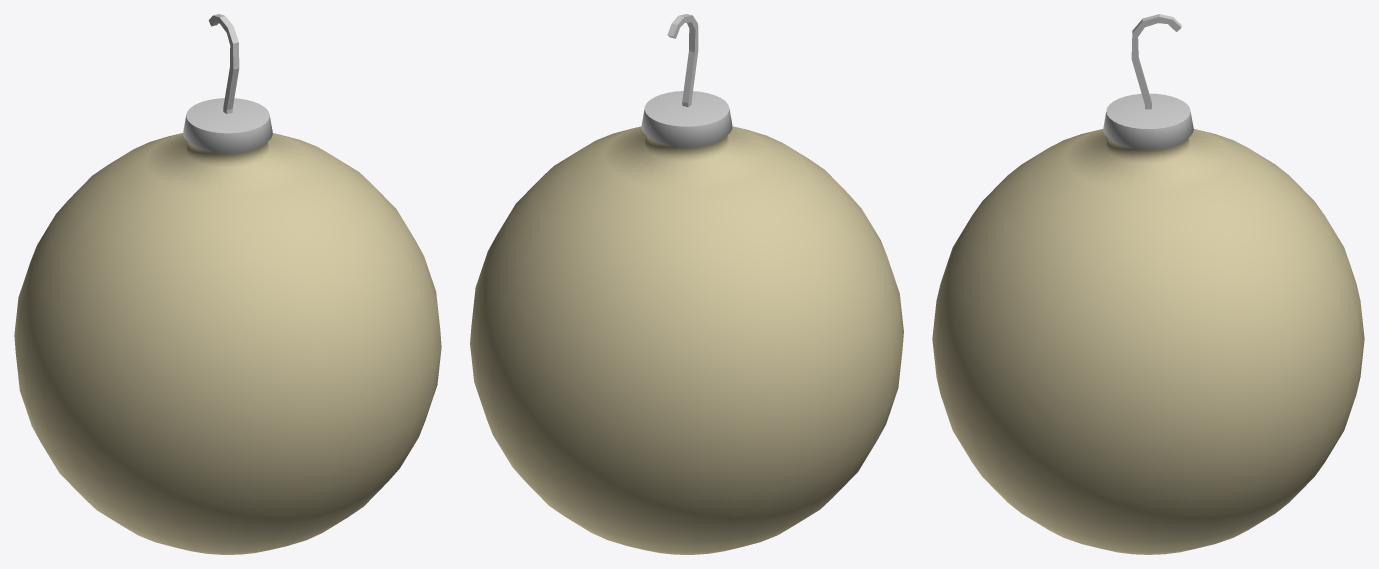
Rendered from ornament-gold.fbx.
3 renders of one model, left to right at view 1: azimuth 30°, elevation 25°; view 2: azimuth 150°, elevation 25°; view 3: azimuth 270°, elevation 25°, orthographic.
Visible parts, largest first — view 1: Sphere; view 2: Sphere; view 3: Sphere.
Boxes of the visible parts, x1,y1,x2,y2 form: Sphere: (14, 14, 441, 554); Sphere: (470, 14, 903, 554); Sphere: (932, 14, 1364, 554).
Size of the model in its own units: 21.15 by 28.04 by 21.15.
